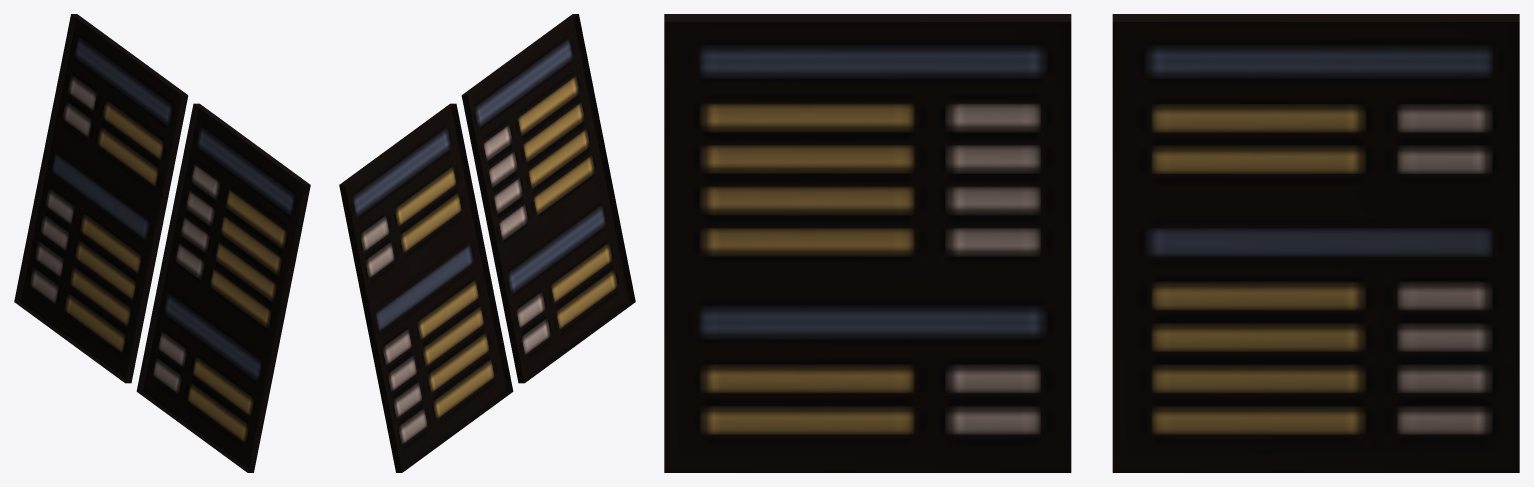
File: Tx_props_wall_menu_64.fbx
3 views of the same model, side by side, from view 1: azimuth 30°, elevation 25°; view 2: azimuth 150°, elevation 25°; view 3: azimuth 270°, elevation 25° (orthographic). The views are drawn at different scales.
Parts seen in each view (by area): view 1: Tx_props_wall_menu; view 2: Tx_props_wall_menu; view 3: Tx_props_wall_menu.
Part boxes in pixels (box(x1,y1,x2,y2)): Tx_props_wall_menu: box(14, 14, 310, 472); Tx_props_wall_menu: box(339, 14, 635, 472); Tx_props_wall_menu: box(664, 14, 1519, 472).
Size of the model in its own units: 1.54 by 6.41 by 9.85.
